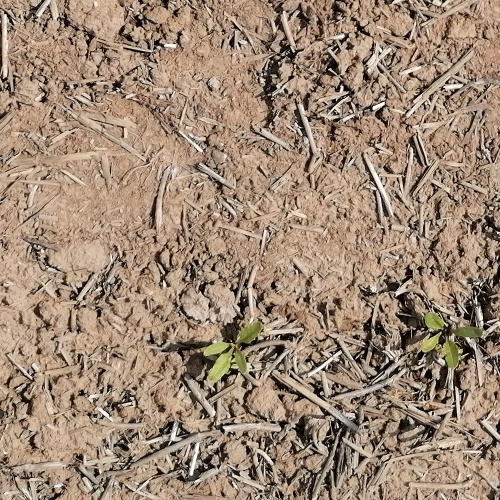beet: (204, 322, 264, 385), (421, 313, 483, 368)
